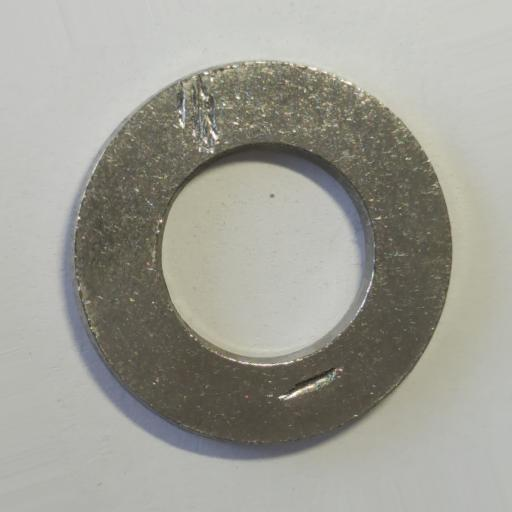scratch: (177, 74, 220, 155), (278, 367, 339, 402)
